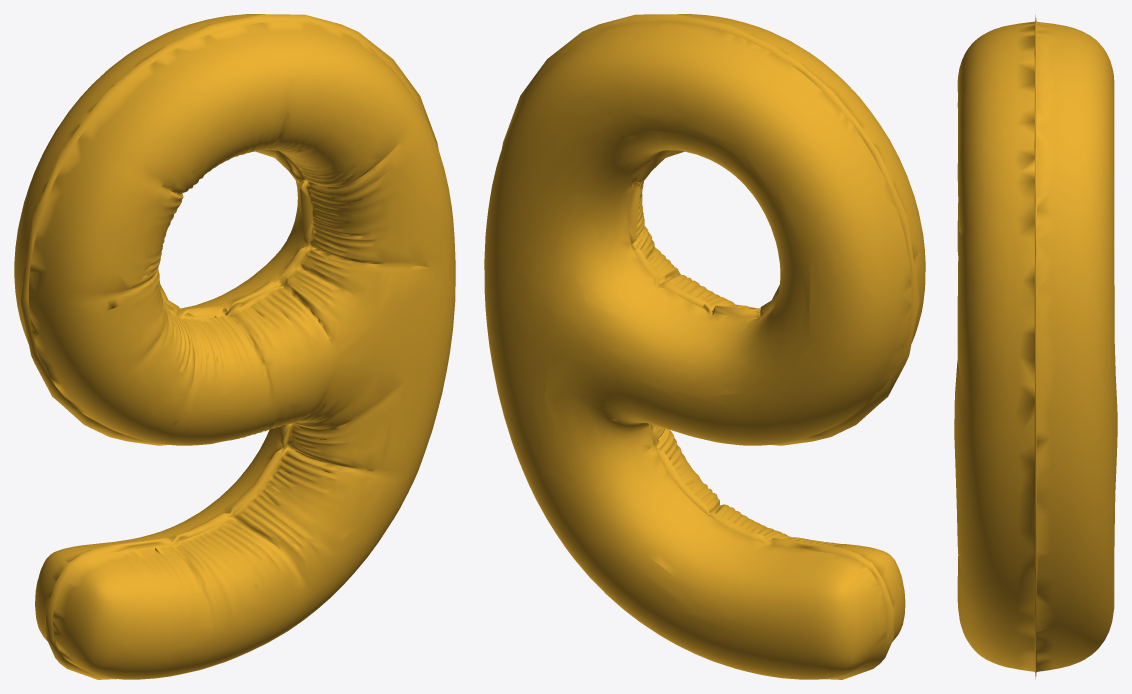
The model's file is zahlen-gold-nr9-gruppe.glb.
3 views of the same model, side by side, from view 1: azimuth 30°, elevation 25°; view 2: azimuth 150°, elevation 25°; view 3: azimuth 270°, elevation 25° (orthographic).
Visible parts, largest first — view 1: nr9; view 2: nr9; view 3: nr9.
Boxes of the visible parts, x1,y1,x2,y2 form: nr9: (14, 14, 455, 679); nr9: (484, 14, 925, 679); nr9: (954, 14, 1117, 679).
Size of the model in its own units: 0.4476 by 0.6367 by 0.147.
